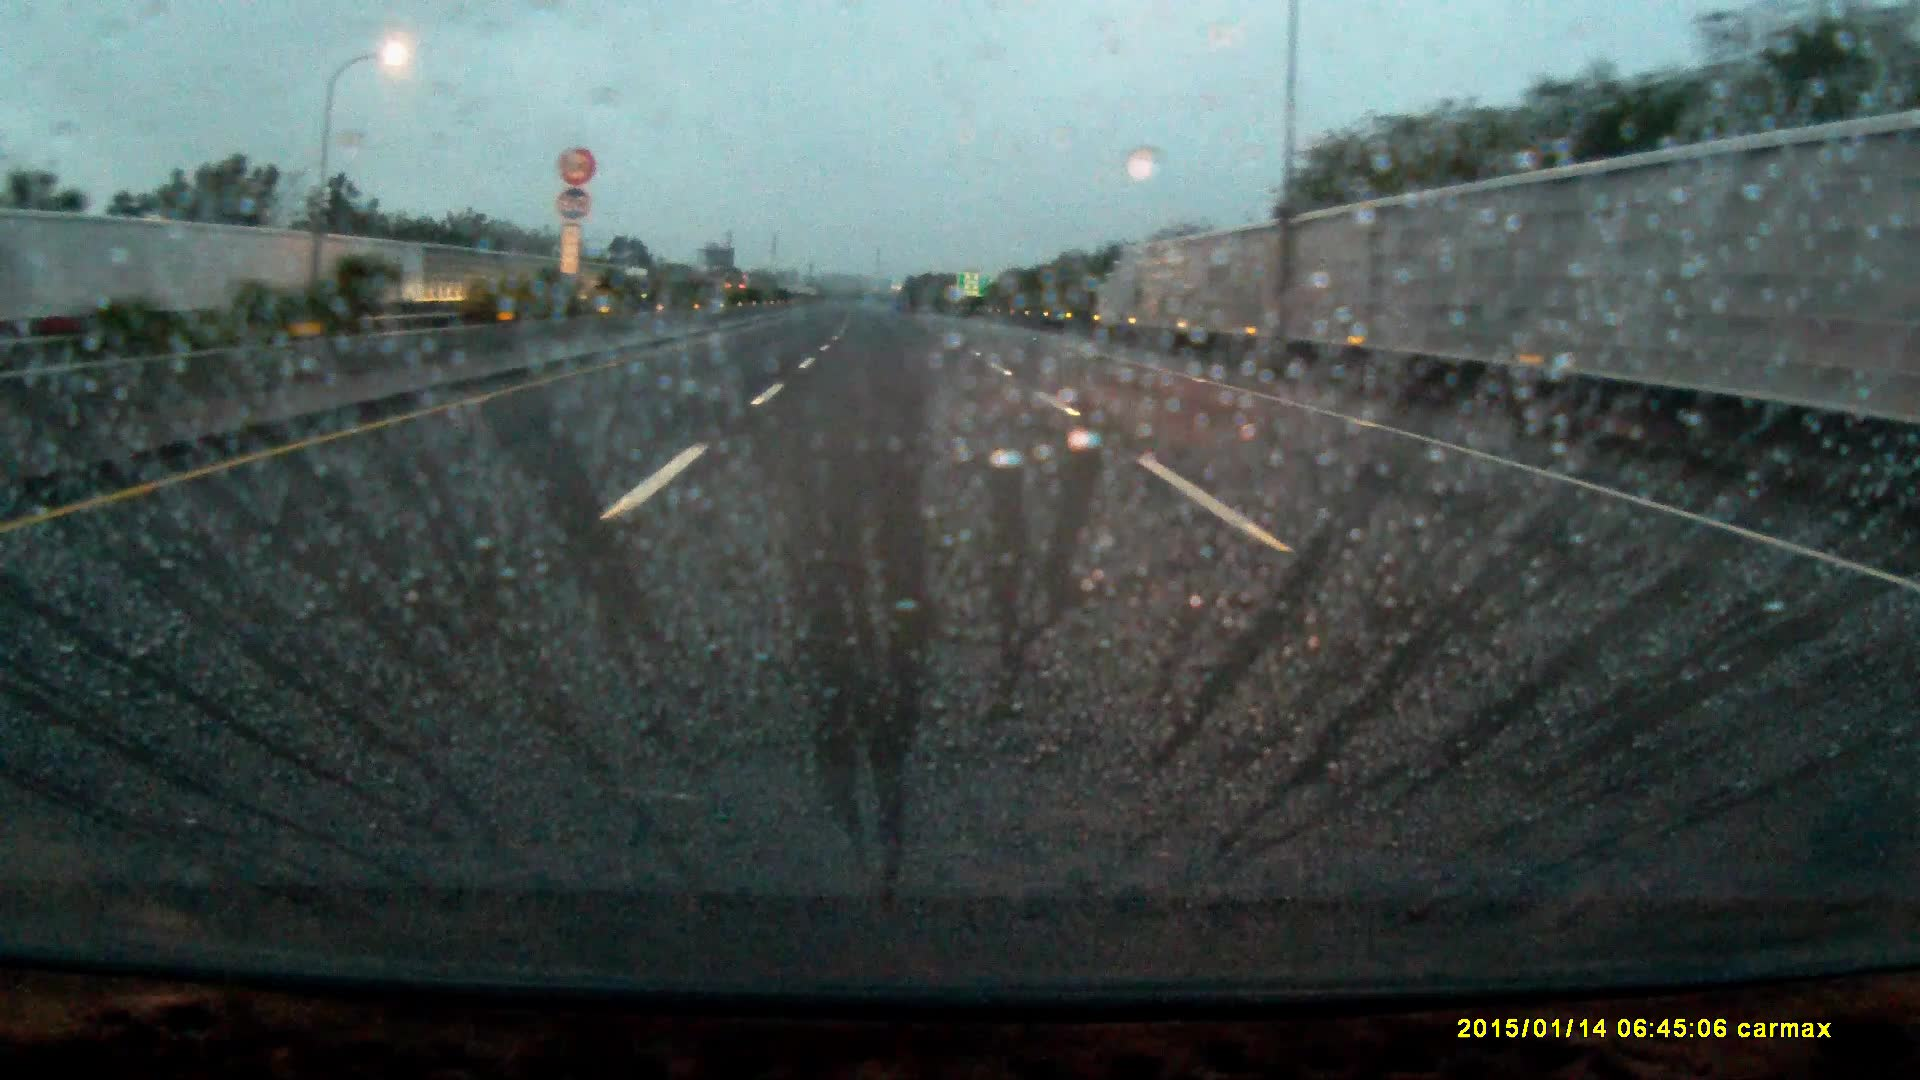vehicle: (622, 270, 655, 305), (724, 284, 756, 310)
